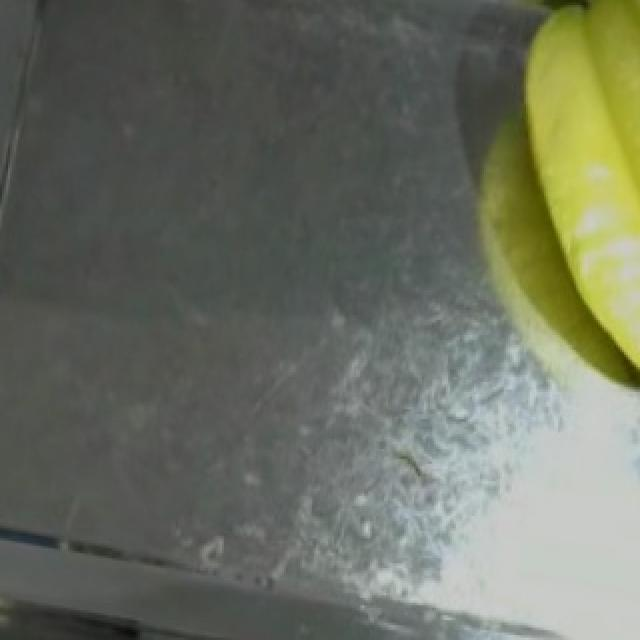fruit: (494, 5, 640, 384)
